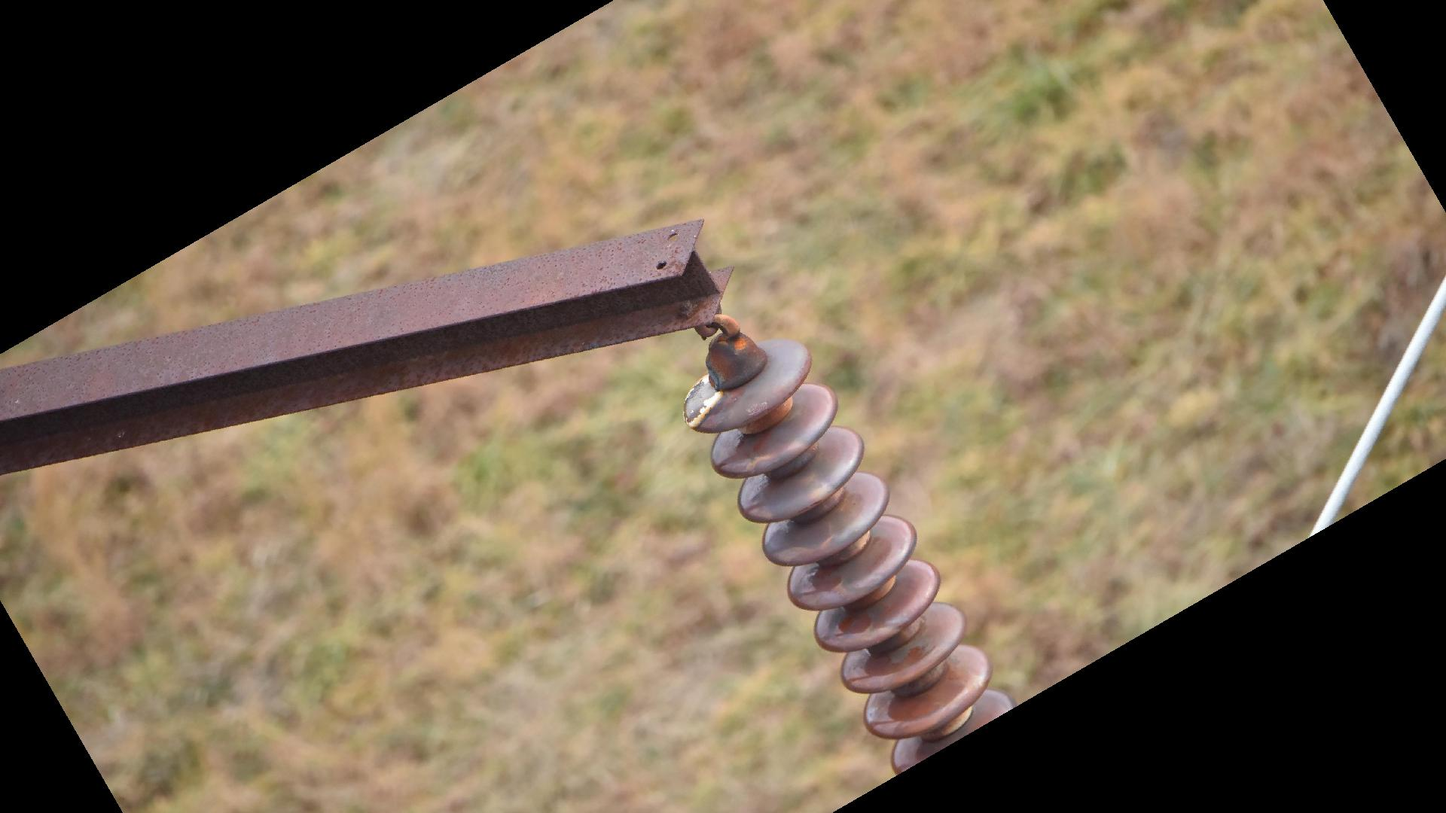insulator: (678, 330, 1024, 782)
insulator_flashover: (676, 370, 725, 431)
